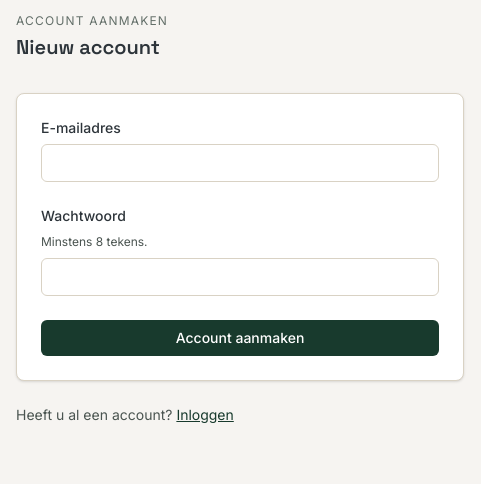
Test: SignUpPage - golden: form filled in, submitted, redirect verified › shows an inline error and does not redirect when the email is already registered
Earlier steps of the test are not shown.
Type "golden-signup-duplicate@example.com" into the field labelled "E-mailadres" at (240, 163), box [41,144,439,182]
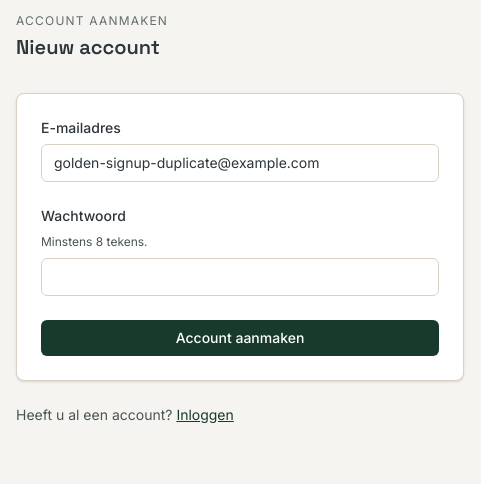
Type "tweedekeer123" into the password field labelled "Wachtwoord" at (240, 276), box [41,258,439,296]
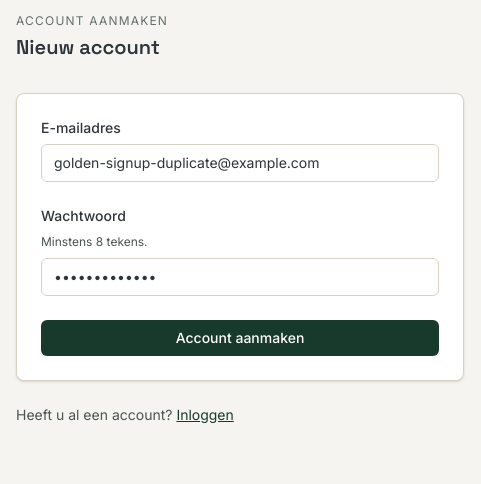
Click the button "Account aanmaken" at (240, 338), box [41,320,439,356]
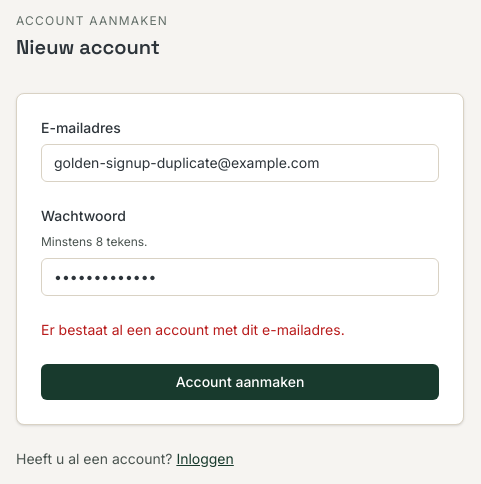
Result: the message shows "bestaat al een account" at [41,320,345,338]
